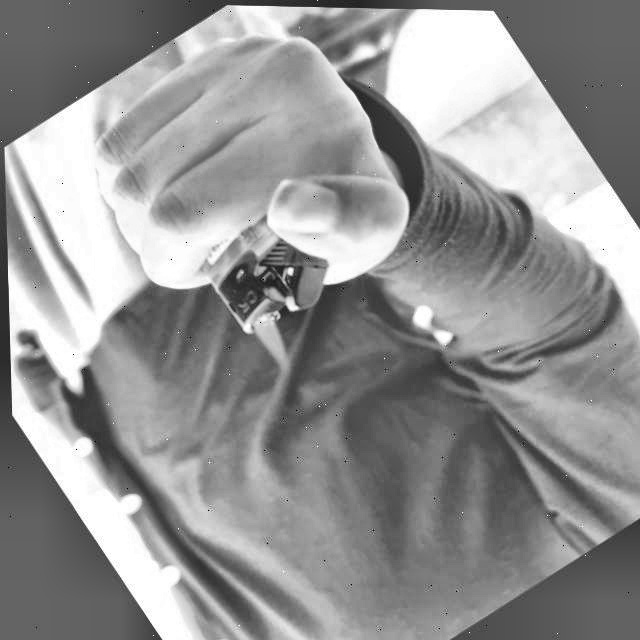Fire: (248, 310, 299, 372)
